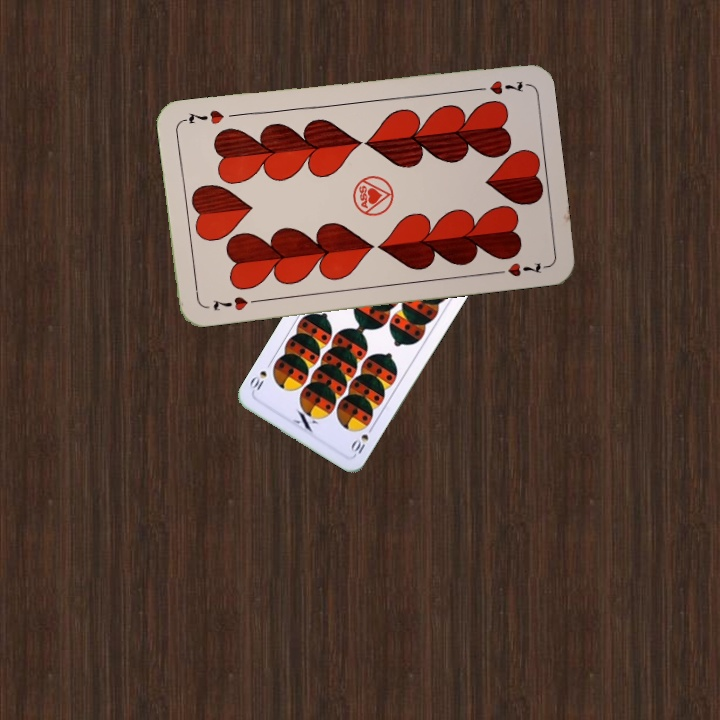H7: (469, 76, 526, 97), (209, 292, 262, 314)
S10: (347, 421, 377, 456)
